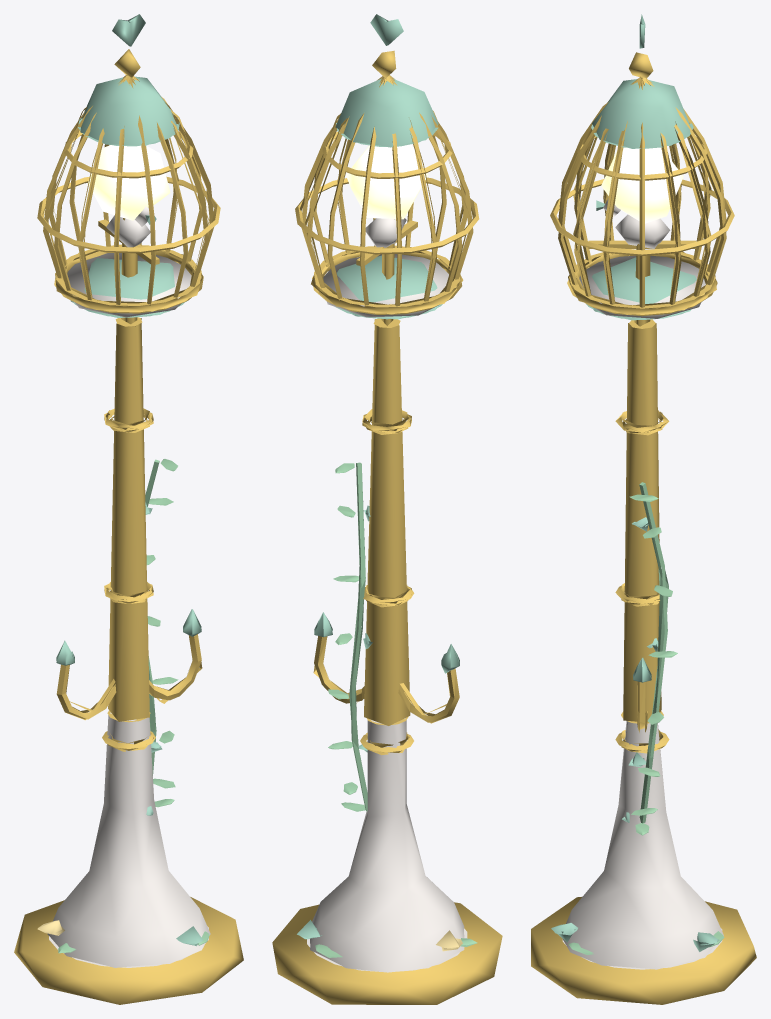
The model's file is lite_birdcage_lamp.glb.
3 views of the same model, side by side, from view 1: azimuth 30°, elevation 25°; view 2: azimuth 150°, elevation 25°; view 3: azimuth 270°, elevation 25° (orthographic).
Visible parts, largest first — view 1: birdcage_lamp; view 2: birdcage_lamp; view 3: birdcage_lamp.
Part boxes in pixels (box(x1,y1,x2,y2)): birdcage_lamp: box(14, 14, 243, 1004); birdcage_lamp: box(272, 14, 502, 1004); birdcage_lamp: box(531, 14, 756, 1004).
Size of the model in its own units: 0.8242 by 3.84 by 0.8359.
